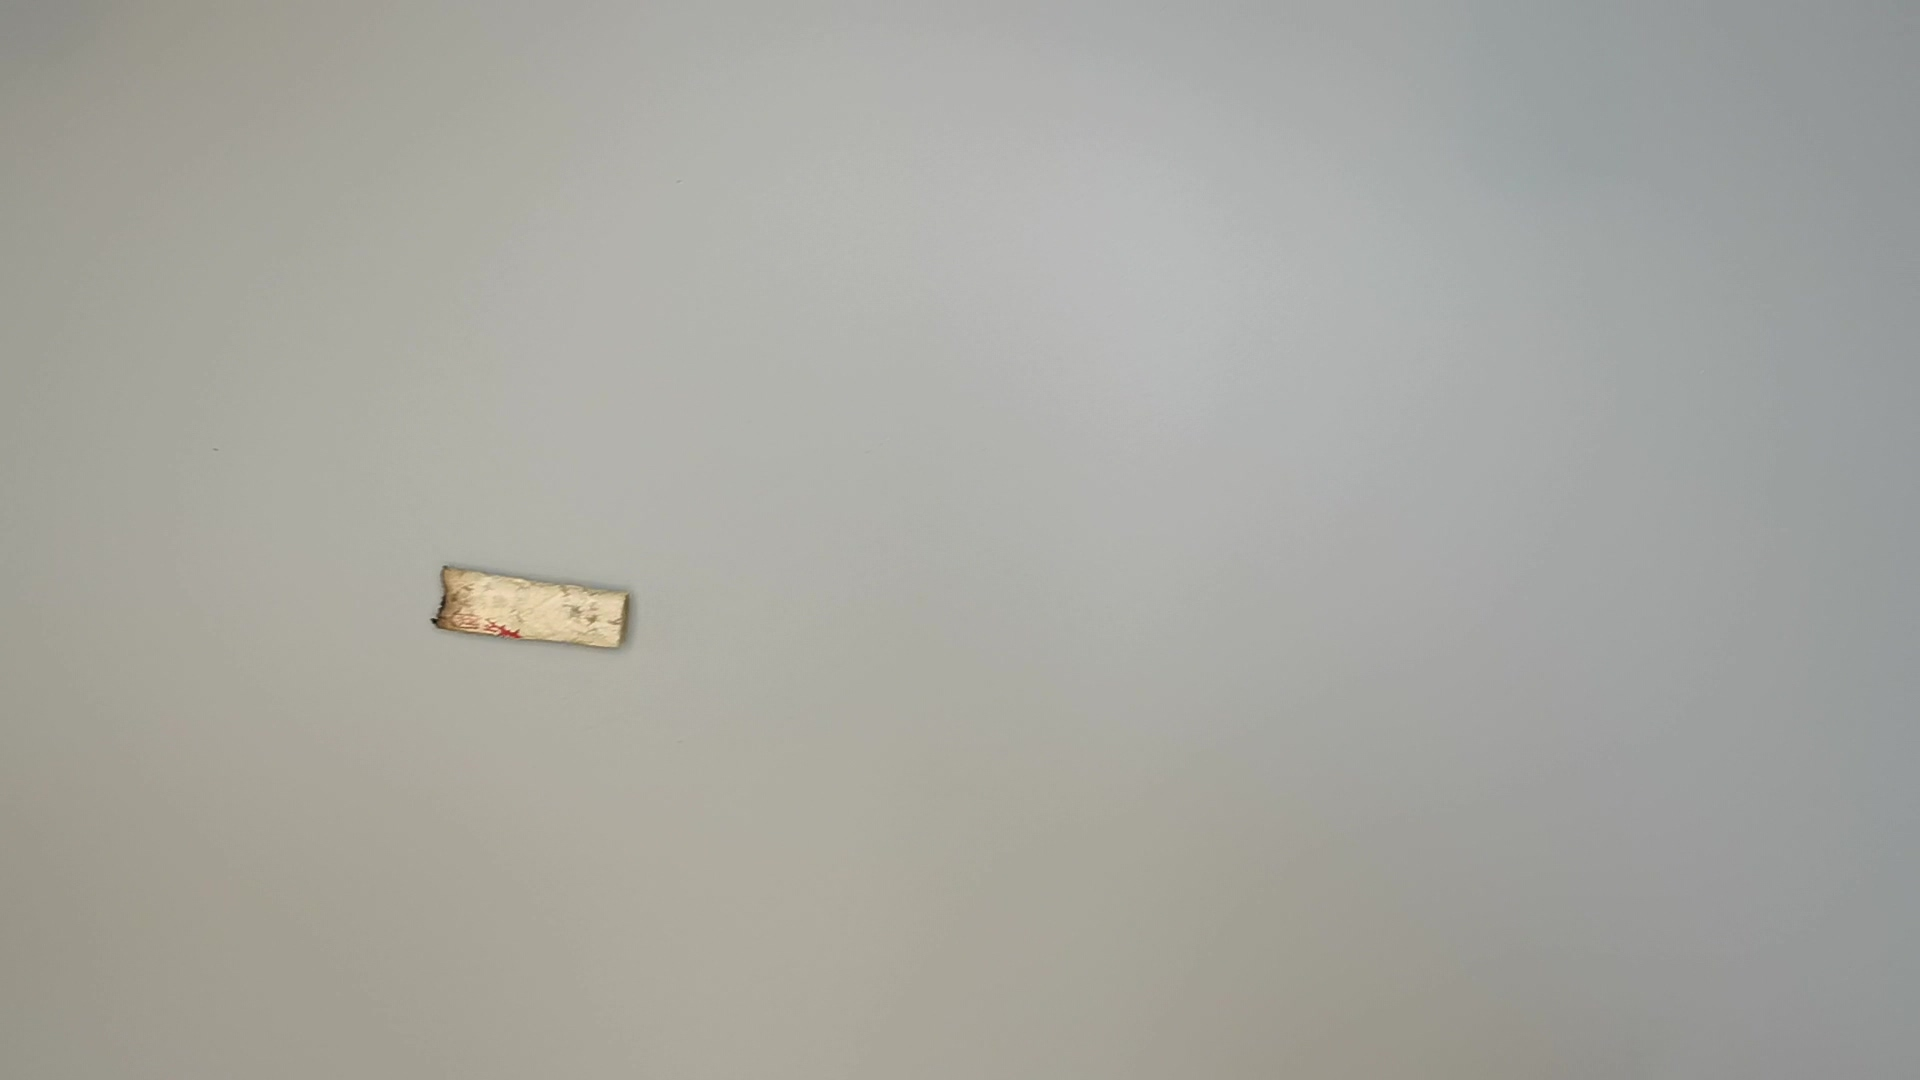cigarette: (422, 560, 647, 658)
